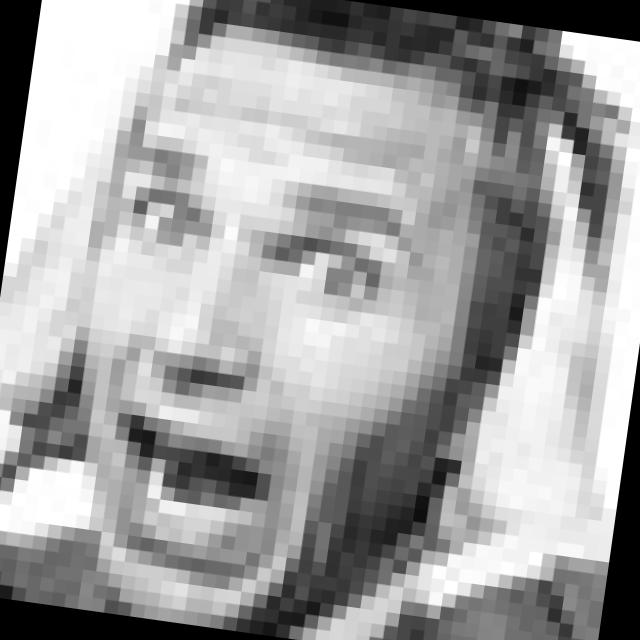fear: (66, 141, 423, 599)
